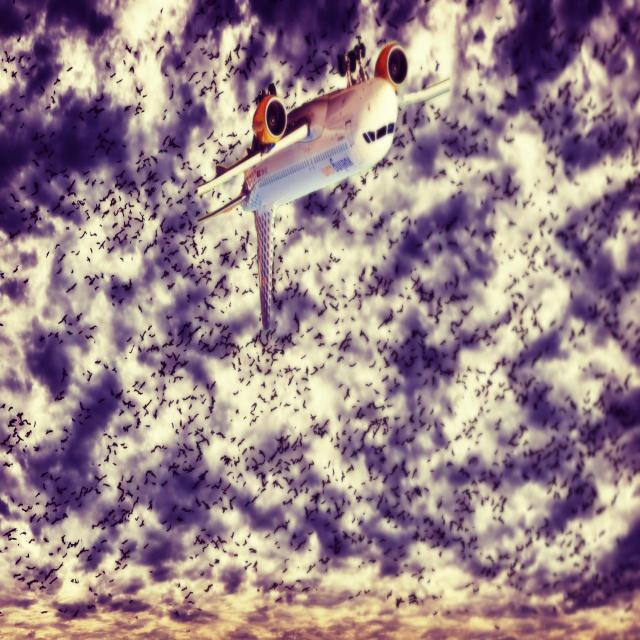airplane: (194, 37, 452, 330)
